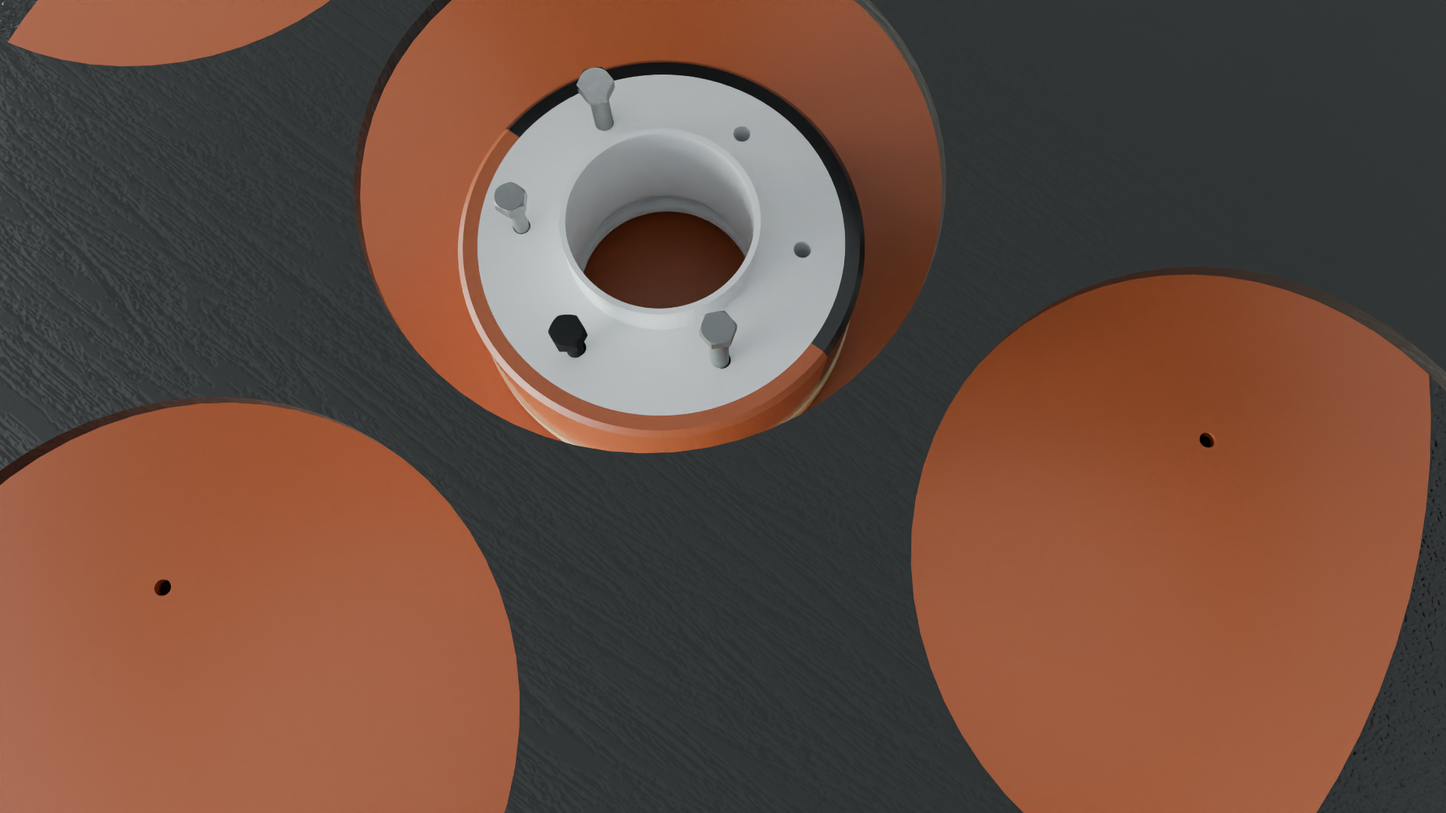bolt: (699, 311, 737, 346), (548, 315, 586, 348), (576, 67, 614, 98), (494, 182, 525, 213)
